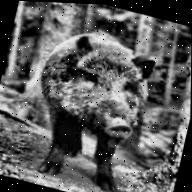boar: (19, 4, 170, 192)
